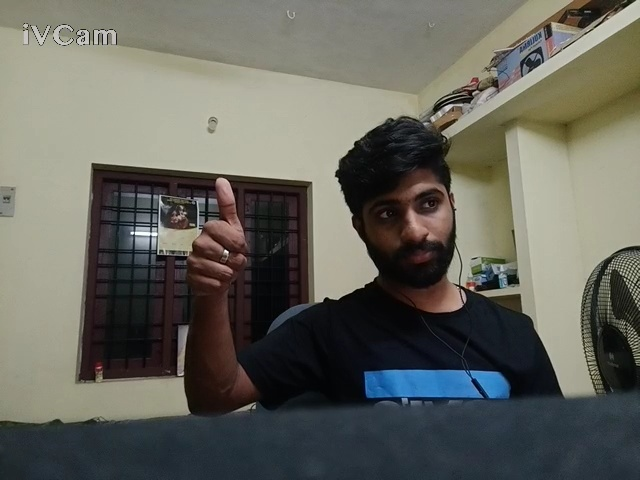Yes: (148, 163, 288, 303)
